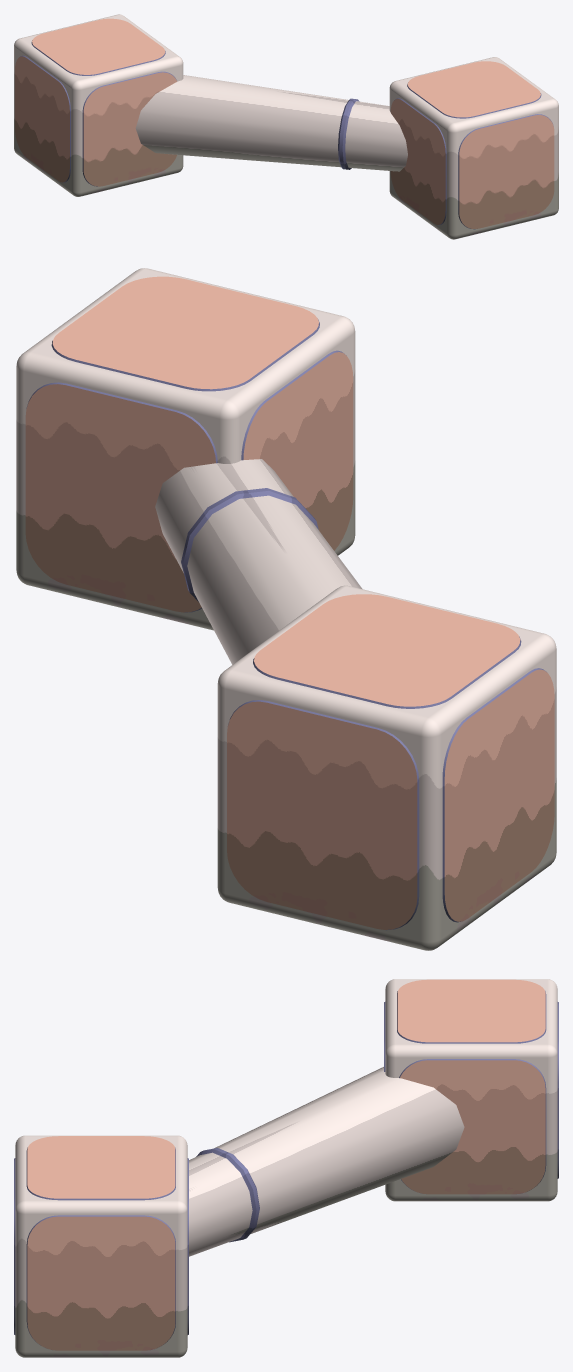
File: R4C_STRUT_DIAG_2D.glb
The picture shows the model from 3 angles, top to bottom: view 1: azimuth 30°, elevation 25°; view 2: azimuth 150°, elevation 25°; view 3: azimuth 270°, elevation 25°; orthographic projection. The views are drawn at different scales.
Parts seen in each view (by area): view 1: R4C_STRUT_DIAG_2D; view 2: R4C_STRUT_DIAG_2D; view 3: R4C_STRUT_DIAG_2D.
Boxes of the visible parts, x1,y1,x2,y2 form: R4C_STRUT_DIAG_2D: (14,14,558,239); R4C_STRUT_DIAG_2D: (16,268,556,950); R4C_STRUT_DIAG_2D: (14,979,558,1357).
Bounding box in the file's own units: 1.62 × 0.52 × 1.62.
Materials: 3 (3 with a texture image).
